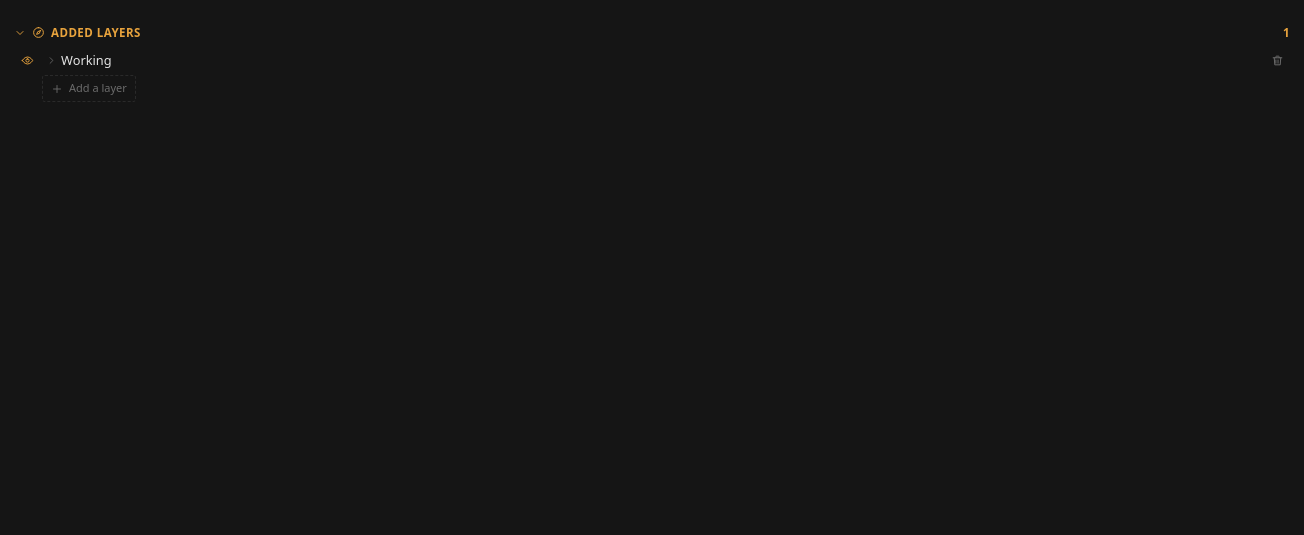
Test: a personal layer legend › shows a uniform group by its pictogram and counts the colours and icons the case named
Click the button with class "fold". click: x=86, y=60
box: x1=46 y1=49 x2=1262 y2=72
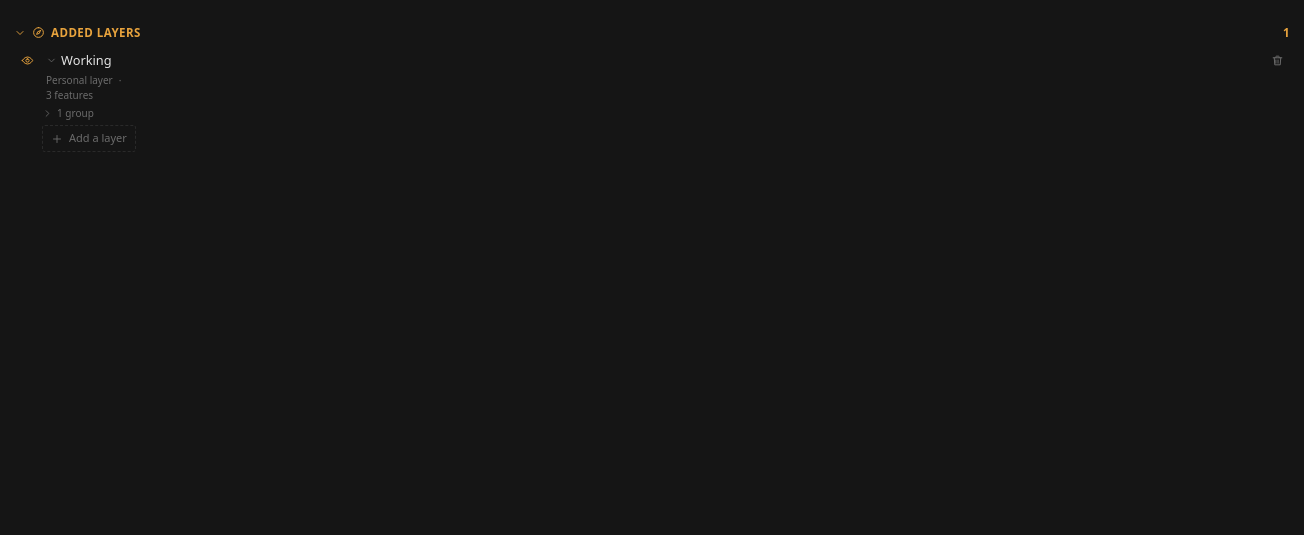
Click the button with class "legend-head". click: x=55, y=113
box: x1=16 y1=103 x2=94 y2=123
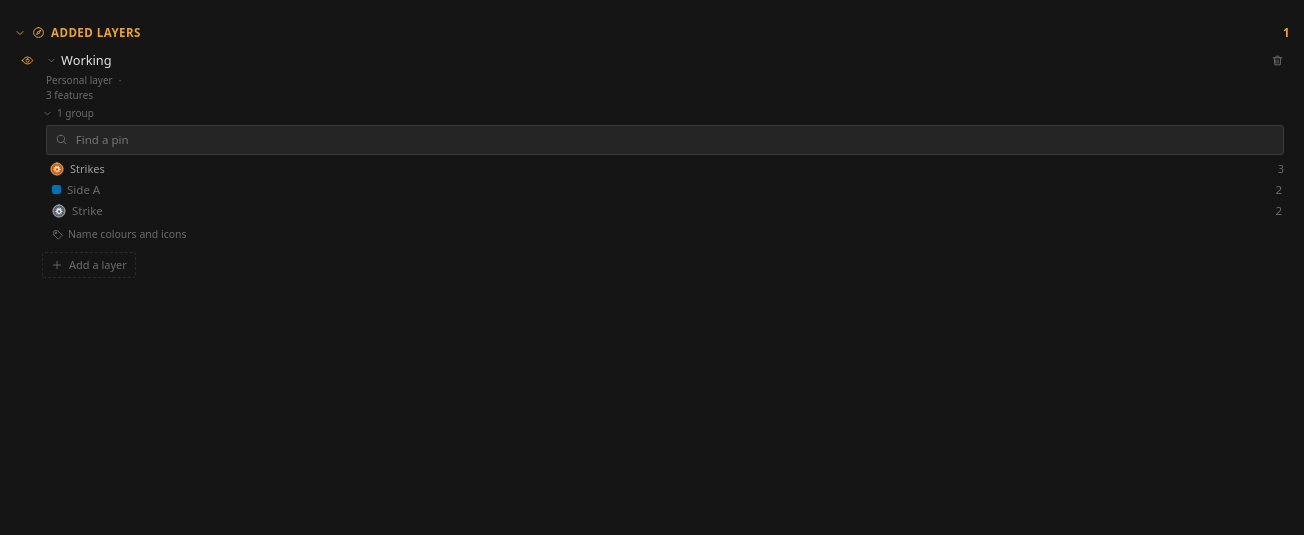
Check: the 1st icon with class "marker-symbol" is shown, box x1=50 y1=162 x2=64 y2=176
Check: the button "Name colours and icons" is shown
Click the button "Name colours and icons". click: x=119, y=235
box: x1=46 y1=223 x2=193 y2=247
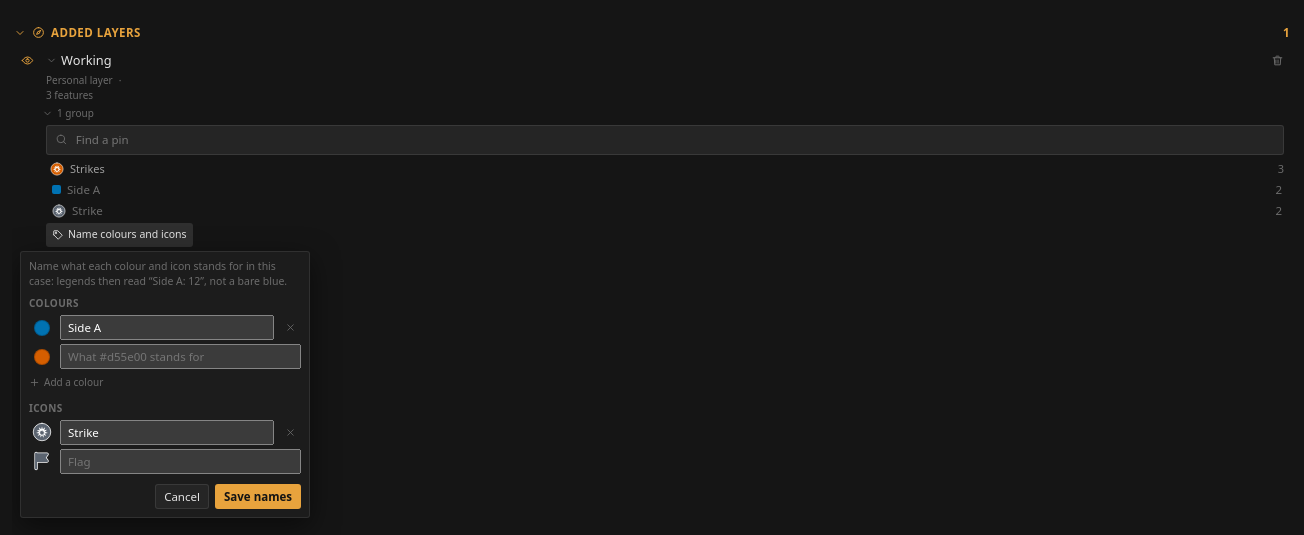
Check: the field named "Name of icon Flag" is shown, box x1=60 y1=449 x2=301 y2=474
